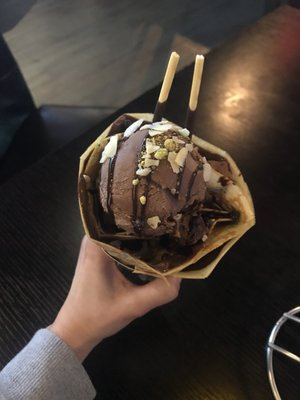pizza: (0, 234, 184, 399)
